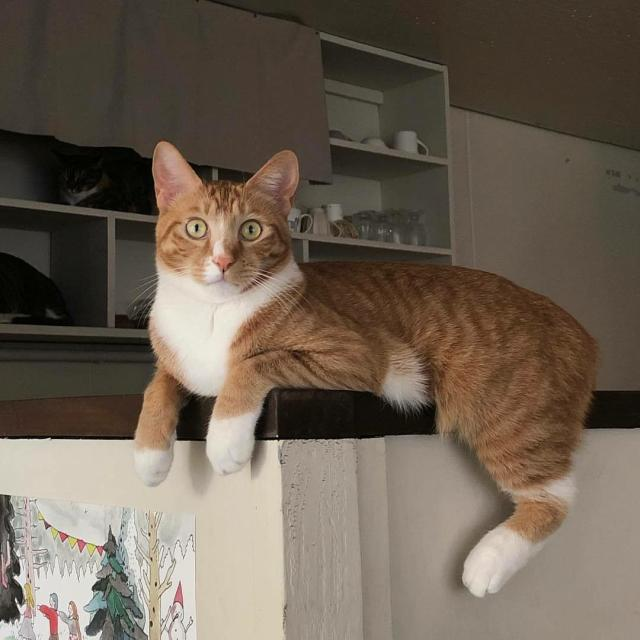sarman: (9, 86, 640, 636)
